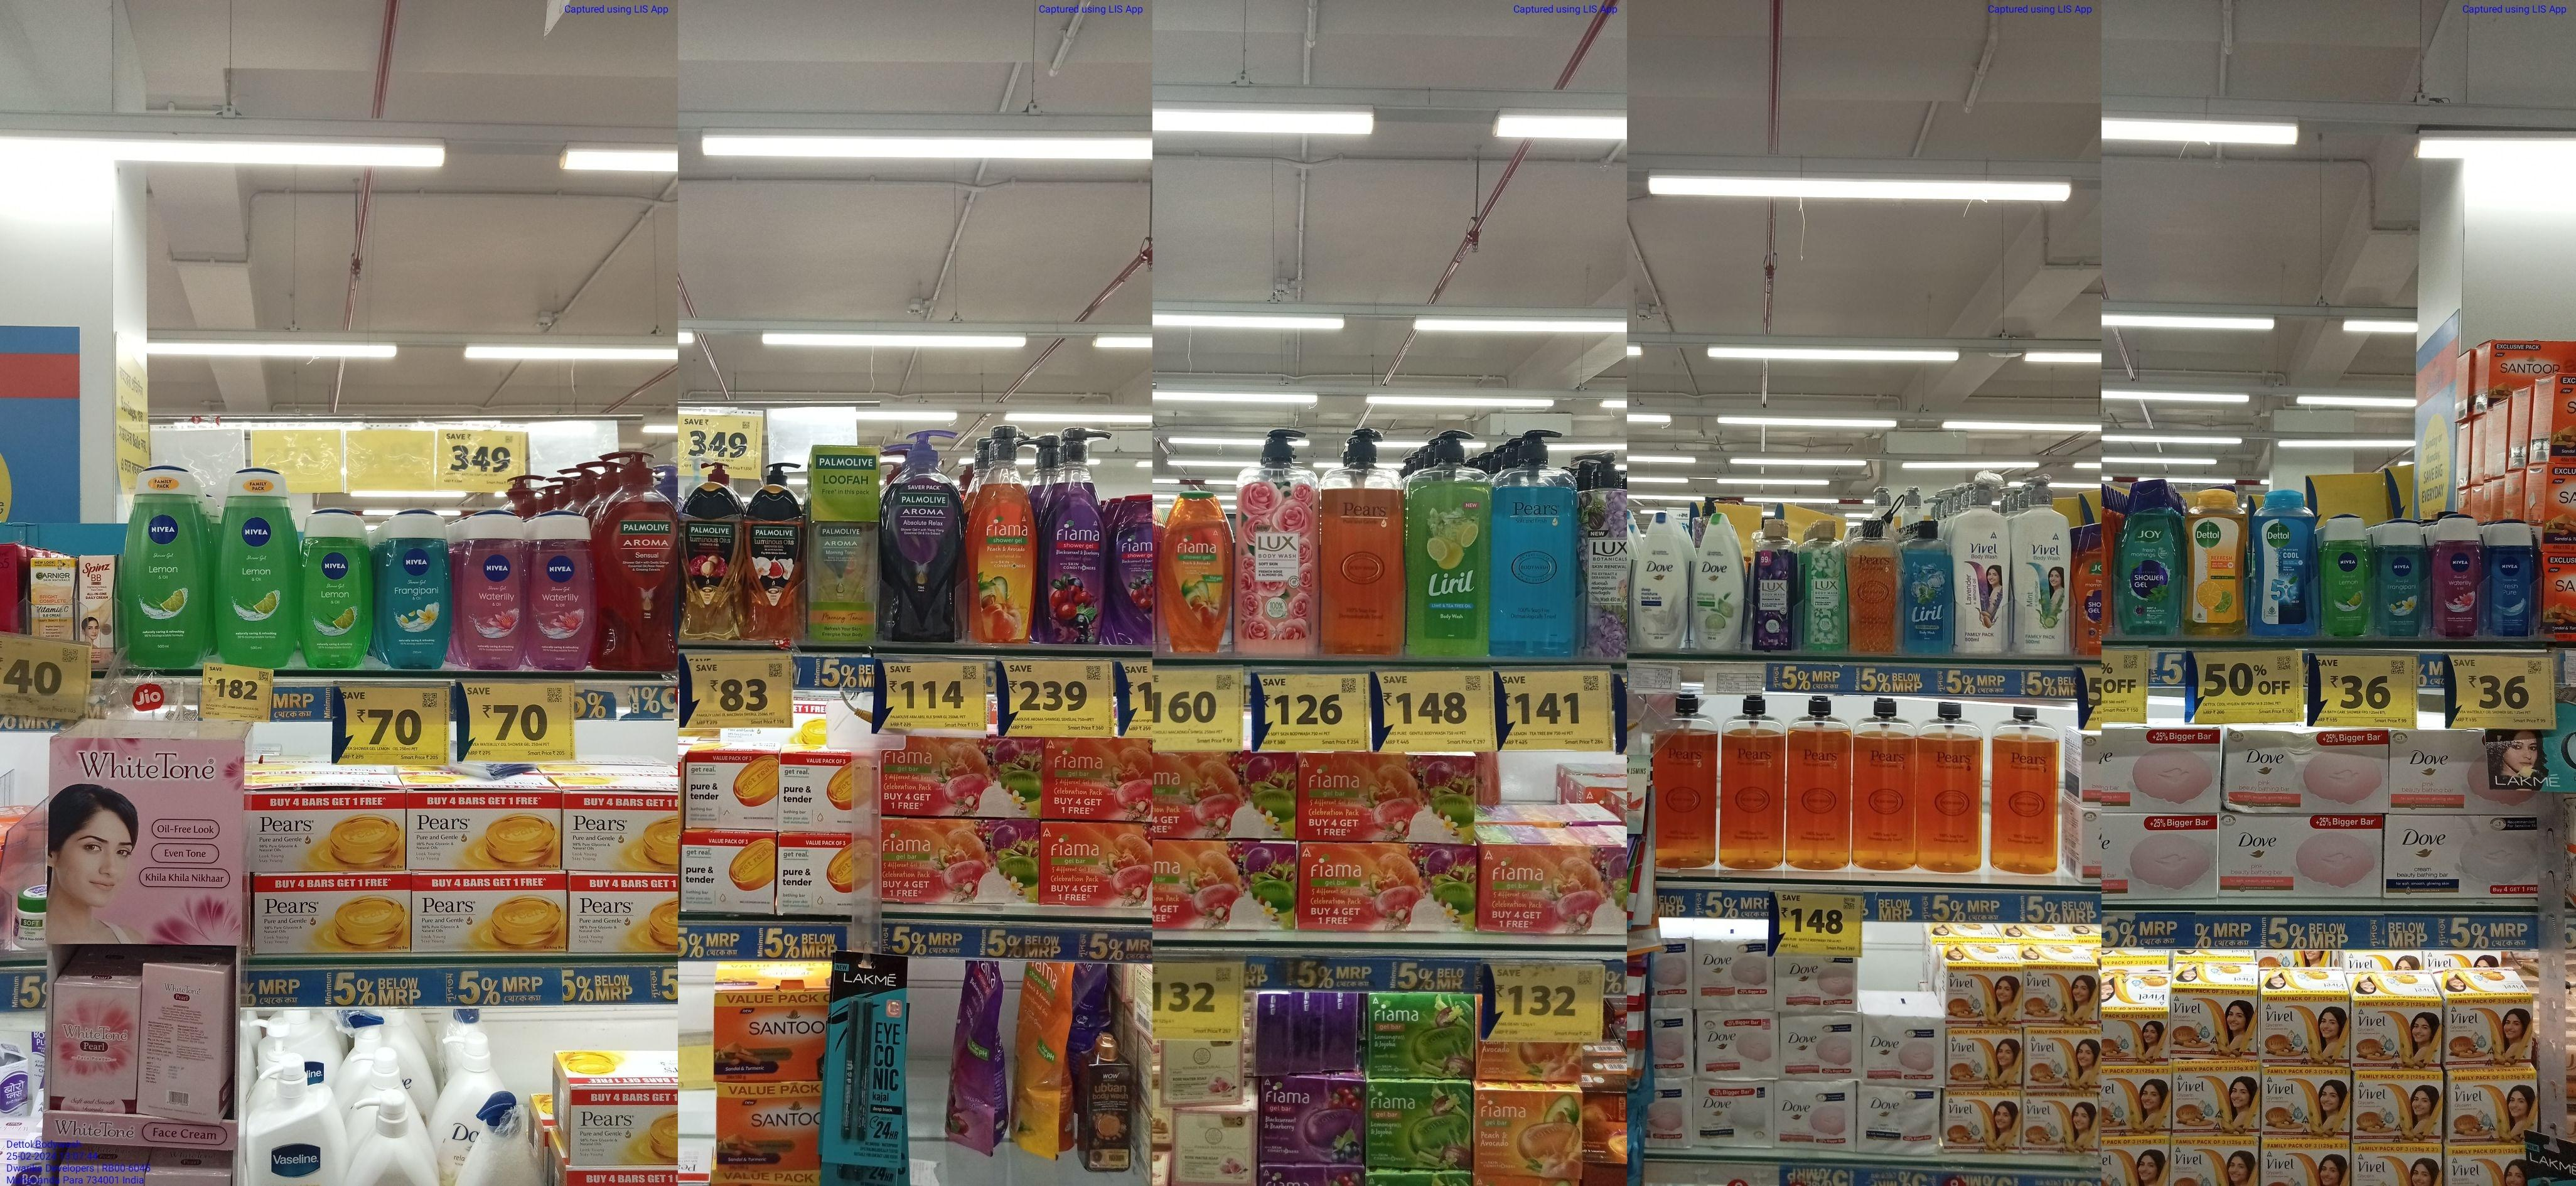Dettol_Bodywash_Cool: (2256, 491, 2316, 639)
Dettol_Bodywash_Refresh: (2187, 490, 2249, 637)
Dove_Deep_Moisture_Body_Wash_250ML: (1636, 513, 1686, 649)
Dove_Refreshing_Body_Wash_250ML: (1692, 513, 1743, 650)
Fiama_Shower_Gel_Peach_and_Avocado_250ML: (1155, 491, 1234, 657)
Joy_Shower_Gel_Mint_and_Eucalyptus_250ML: (2116, 480, 2178, 636)
Liril_Cooling_Mint_Body_Wash_250ML: (1904, 521, 1953, 655)
Lux_Black_Orchid_Scent_and_Juniper_Oil_Body_Wash_245ML: (1753, 517, 1794, 649)
Lux_Body_Wash_Skin_Detox_Freesia_Scent_and_Alove_Vera_245ML: (1805, 521, 1847, 652)
Nivea_Shower_Gel_Frangipani_and_Oil_250ML: (389, 511, 448, 667)
Nivea_Shower_Gel_Lemon_and_Oil_250ML: (117, 465, 209, 667), (220, 465, 296, 667), (301, 508, 368, 667)
Nivea_Shower_Gel_Waterlily_and_Oil_250ML: (527, 508, 591, 673), (462, 509, 524, 670)
Palmolive_Luminous_Oils_Invigorating_Macadamia_Oil_With_Peony_250ML: (677, 481, 741, 642)
Palmolive_Luminous_Oils_With_White_Orchid_Shower_Gel_250ML: (746, 483, 802, 646)
